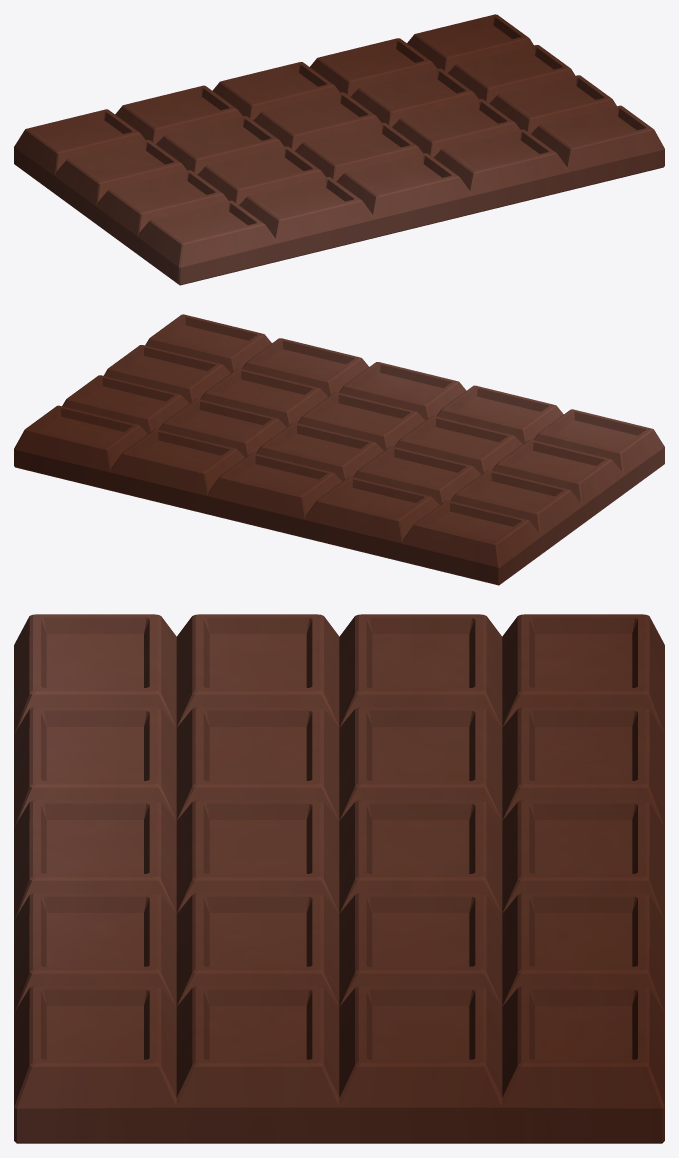
File: Chocolate.fbx
The picture shows the model from 3 angles, top to bottom: view 1: azimuth 30°, elevation 25°; view 2: azimuth 150°, elevation 25°; view 3: azimuth 270°, elevation 25°; orthographic projection. The views are drawn at different scales.
Visible parts, largest first — view 1: Chocolate; view 2: Chocolate; view 3: Chocolate.
Part boxes in pixels (x1,y1,x2,y2): Chocolate: (14, 14, 664, 285); Chocolate: (14, 314, 664, 585); Chocolate: (14, 614, 664, 1143).
Bounding box in the file's own units: 20.05 × 1.48 × 11.87.
